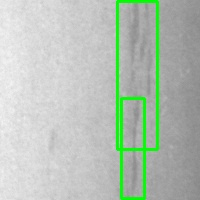inclusion: (117, 1, 157, 149), (121, 98, 144, 198)
